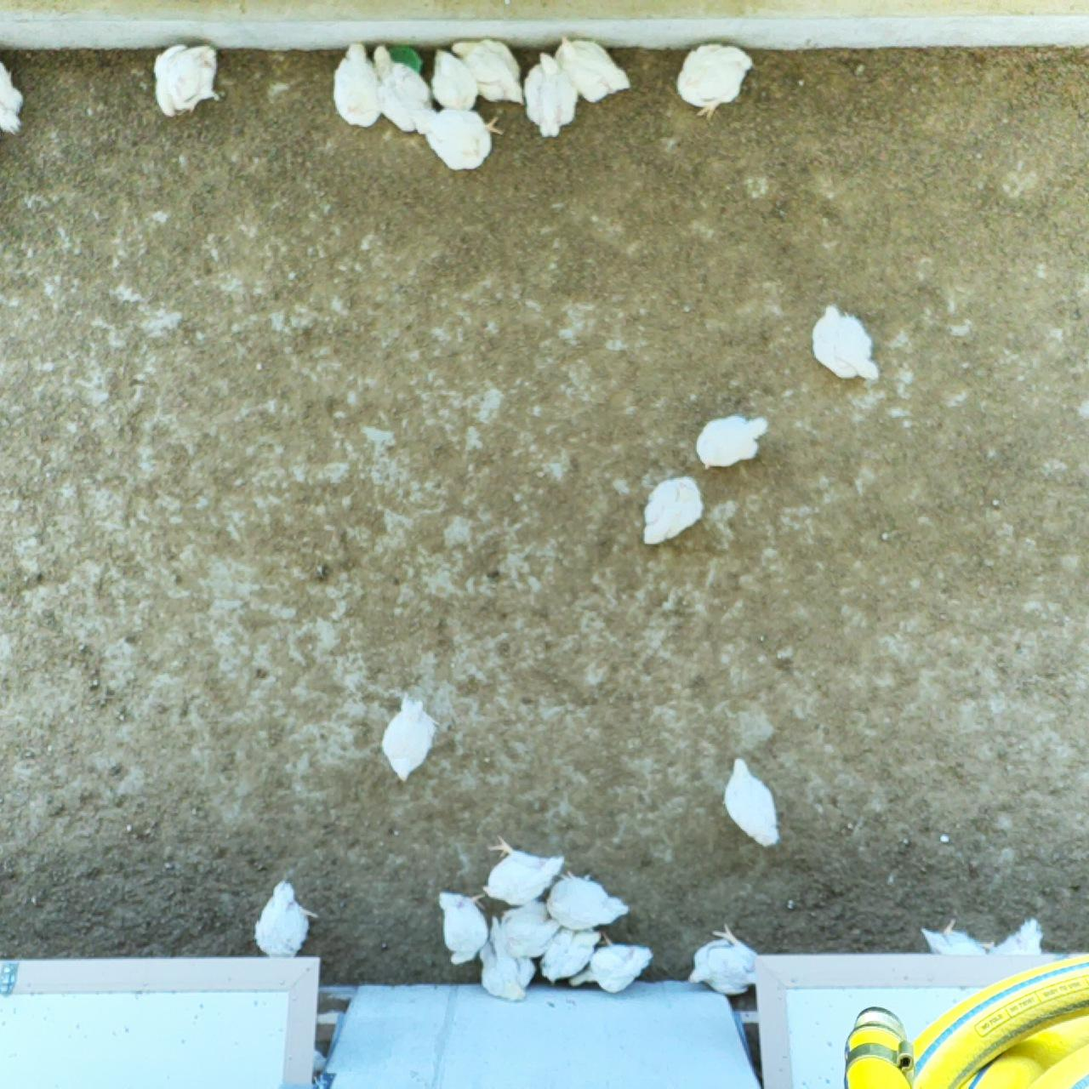chicken: (568, 928, 660, 1006), (673, 39, 756, 124), (374, 689, 443, 790), (478, 833, 566, 909), (805, 303, 885, 385), (371, 42, 438, 138), (721, 751, 784, 853), (248, 875, 320, 963), (684, 918, 763, 998), (149, 39, 223, 123), (553, 31, 633, 108), (409, 108, 503, 173), (473, 912, 539, 1004), (450, 34, 527, 110), (544, 867, 631, 934), (520, 49, 582, 141), (323, 42, 386, 129), (486, 890, 563, 960), (640, 472, 706, 552), (693, 411, 774, 474), (436, 884, 493, 969), (536, 923, 602, 986), (429, 47, 483, 116), (985, 915, 1053, 961), (919, 914, 990, 956), (0, 57, 27, 142)
